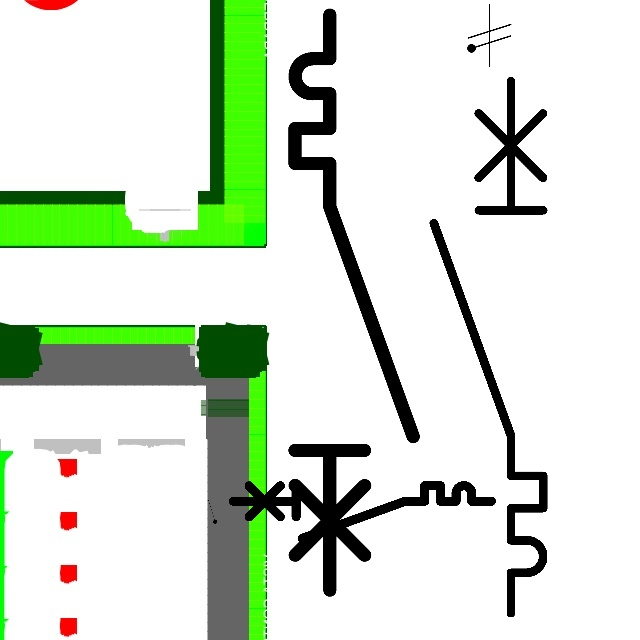interruptor_termomagnetico: (280, 0, 428, 605), (420, 67, 557, 627), (226, 479, 498, 545)
